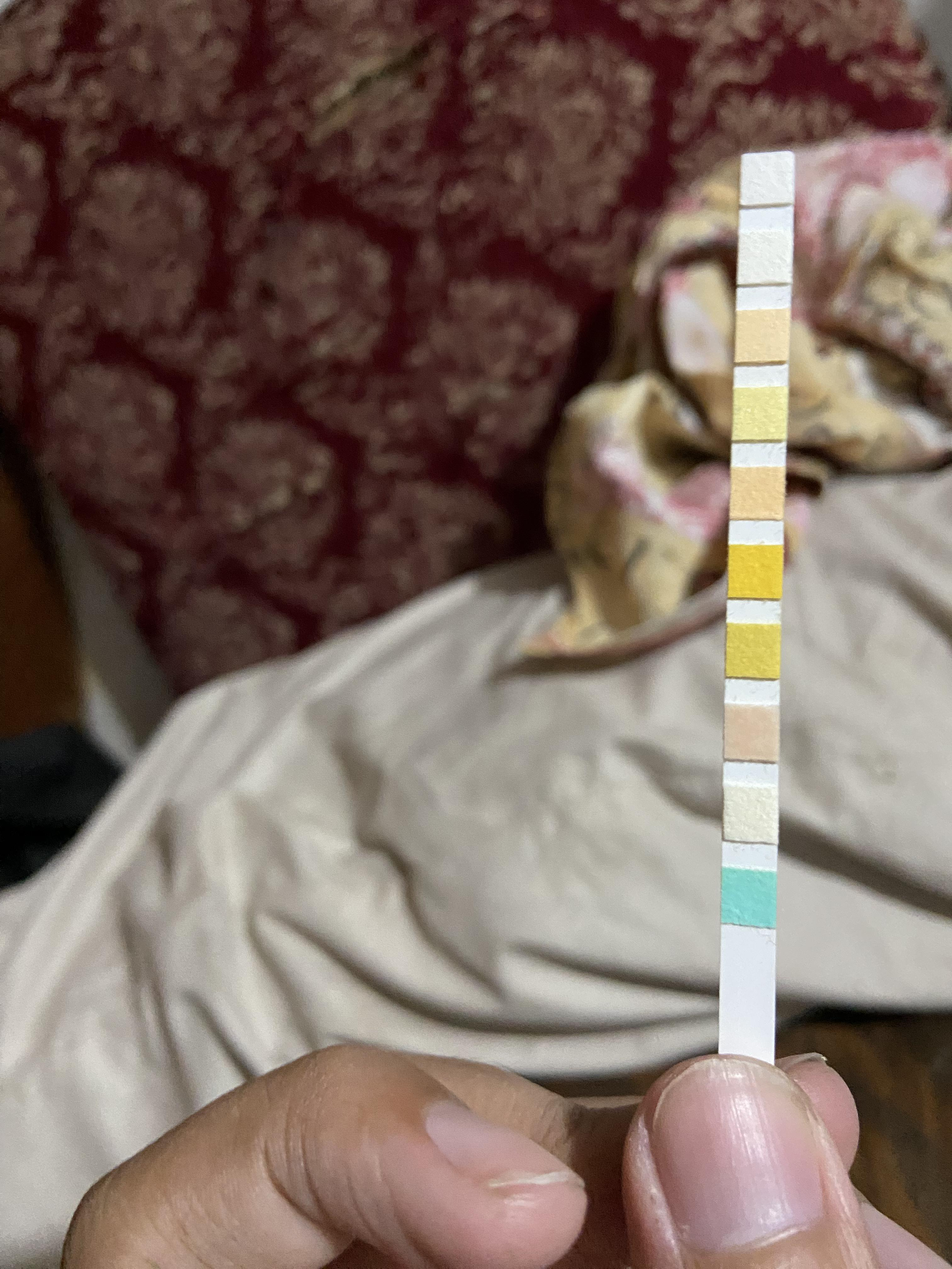Bilirubin: (727, 788, 775, 841)
Blood: (729, 547, 780, 597)
Glucose: (724, 872, 773, 924)
Ketone: (727, 706, 777, 757)
Leukocytes: (744, 156, 791, 200)
Nitrite: (742, 234, 789, 282)
Protein: (735, 390, 783, 438)
SpGravity: (727, 625, 777, 677)
Urobilinogen: (737, 314, 786, 359)
pH: (732, 470, 781, 517)
strip: (719, 151, 793, 1046)
